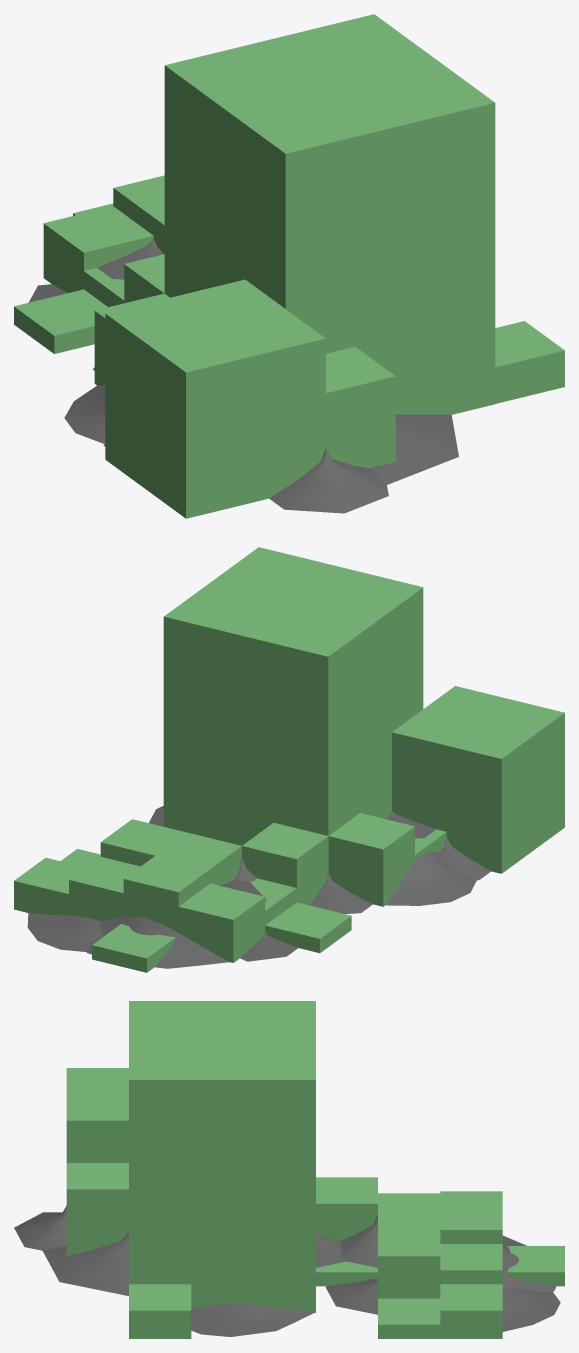
Rendered from Mountain_B.fbx.
3 renders of one model, top to bottom at view 1: azimuth 30°, elevation 25°; view 2: azimuth 150°, elevation 25°; view 3: azimuth 270°, elevation 25°, orthographic. The views are drawn at different scales.
Parts seen in each view (by area): view 1: SM_Cube_1m3, SM_Cube_1m4, SM_Cube_1m13, SM_Cube_1m12, SM_Cube_1m5, pCone1, SM_Cube_1m11, pCone22, SM_Cube_1m2, pDisc12, SM_Cube_1m15, SM_Cube_1m16 (+2 smaller); view 2: SM_Cube_1m3, SM_Cube_1m4, SM_Cube_1m2, SM_Cube_1m16, SM_Cube_1m12, SM_Cube_1m15, SM_Cube_1m8, pDisc12, SM_Cube_1m11, SM_Cube_1m1, SM_Cube_1m30, SM_Cube_1m9 (+7 smaller); view 3: SM_Cube_1m3, SM_Cube_1m4, SM_Cube_1m13, SM_Cube_1m9, SM_Cube_1m2, SM_Cube_1m15, SM_Cube_1m1, SM_Cube_1m5, pCone22, pDisc9, SM_Cube_1m8, SM_Cube_1m7 (+10 smaller).
Part boxes in pixels (bbox=[...]): SM_Cube_1m3: bbox=[164, 14, 495, 414]; SM_Cube_1m4: bbox=[105, 279, 325, 518]; SM_Cube_1m13: bbox=[326, 347, 395, 468]; SM_Cube_1m12: bbox=[43, 206, 153, 292]; SM_Cube_1m5: bbox=[495, 321, 564, 403]; pCone1: bbox=[269, 448, 388, 513]; SM_Cube_1m11: bbox=[14, 289, 107, 353]; pCone22: bbox=[371, 414, 458, 484]; SM_Cube_1m2: bbox=[113, 175, 164, 254]; pDisc12: bbox=[64, 385, 105, 443]; SM_Cube_1m15: bbox=[124, 254, 164, 303]; SM_Cube_1m16: bbox=[94, 293, 169, 385]; SM_Cube_1m3: bbox=[163, 547, 423, 845]; SM_Cube_1m4: bbox=[392, 686, 564, 873]; SM_Cube_1m2: bbox=[123, 832, 241, 932]; SM_Cube_1m16: bbox=[328, 813, 414, 906]; SM_Cube_1m12: bbox=[178, 883, 265, 962]; SM_Cube_1m15: bbox=[242, 823, 328, 905]; SM_Cube_1m8: bbox=[69, 856, 140, 920]; pDisc12: bbox=[386, 851, 476, 905]; SM_Cube_1m11: bbox=[265, 902, 351, 953]; SM_Cube_1m1: bbox=[14, 857, 85, 915]; SM_Cube_1m30: bbox=[92, 923, 176, 972]; SM_Cube_1m9: bbox=[100, 819, 186, 866]; SM_Cube_1m3: bbox=[129, 1001, 315, 1312]; SM_Cube_1m4: bbox=[66, 1068, 128, 1162]; SM_Cube_1m13: bbox=[66, 1163, 128, 1255]; SM_Cube_1m9: bbox=[378, 1230, 440, 1298]; SM_Cube_1m2: bbox=[378, 1203, 502, 1243]; SM_Cube_1m15: bbox=[316, 1177, 377, 1240]; SM_Cube_1m1: bbox=[440, 1284, 502, 1338]; SM_Cube_1m5: bbox=[129, 1284, 191, 1338]; pCone22: bbox=[43, 1232, 128, 1295]; pDisc9: bbox=[191, 1302, 314, 1336]; SM_Cube_1m8: bbox=[440, 1244, 502, 1284]; SM_Cube_1m7: bbox=[378, 1298, 440, 1338].
Bounding box in the file's own units: 2400 × 1650 × 3538.
